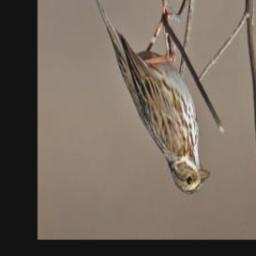Sparrow: (91, 0, 210, 195)
